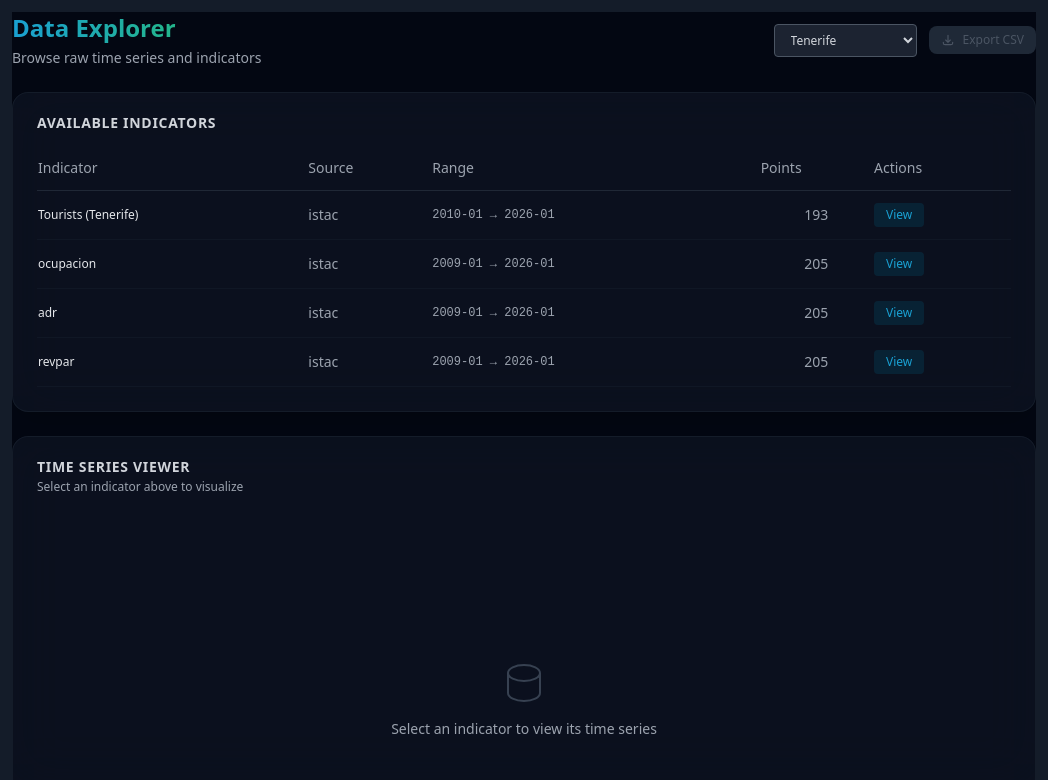
Test: DataExplorerPage › limits selection to 3 indicators
Click the button "View" in the row of "Tourists (Tenerife)": click(899, 215) [874,203,924,227]
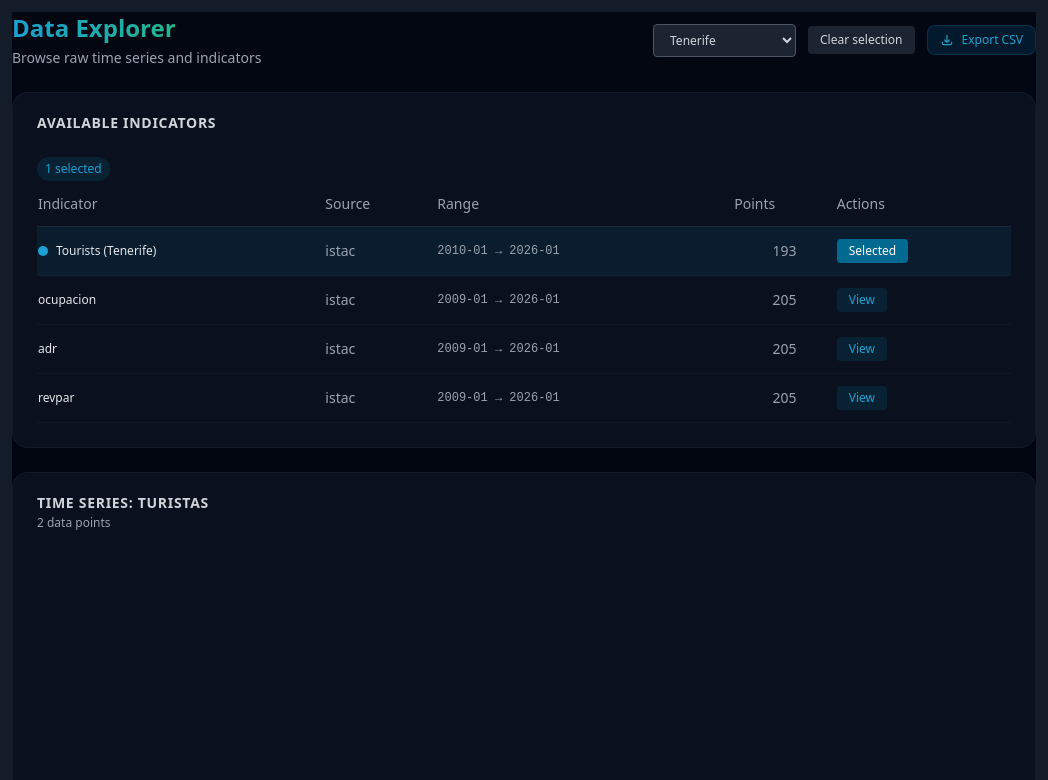
Click the button "View" in the row of "ocupacion": click(862, 300) [837,288,887,312]
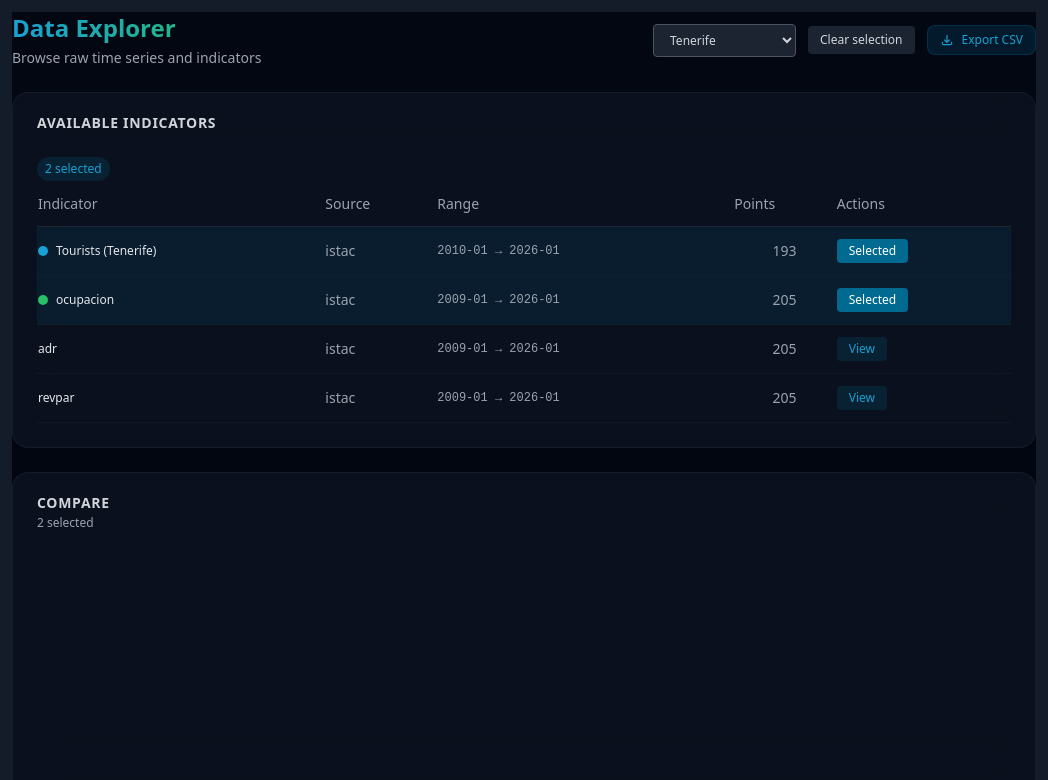
Click the 1st button "View": click(862, 349) [837,337,887,361]
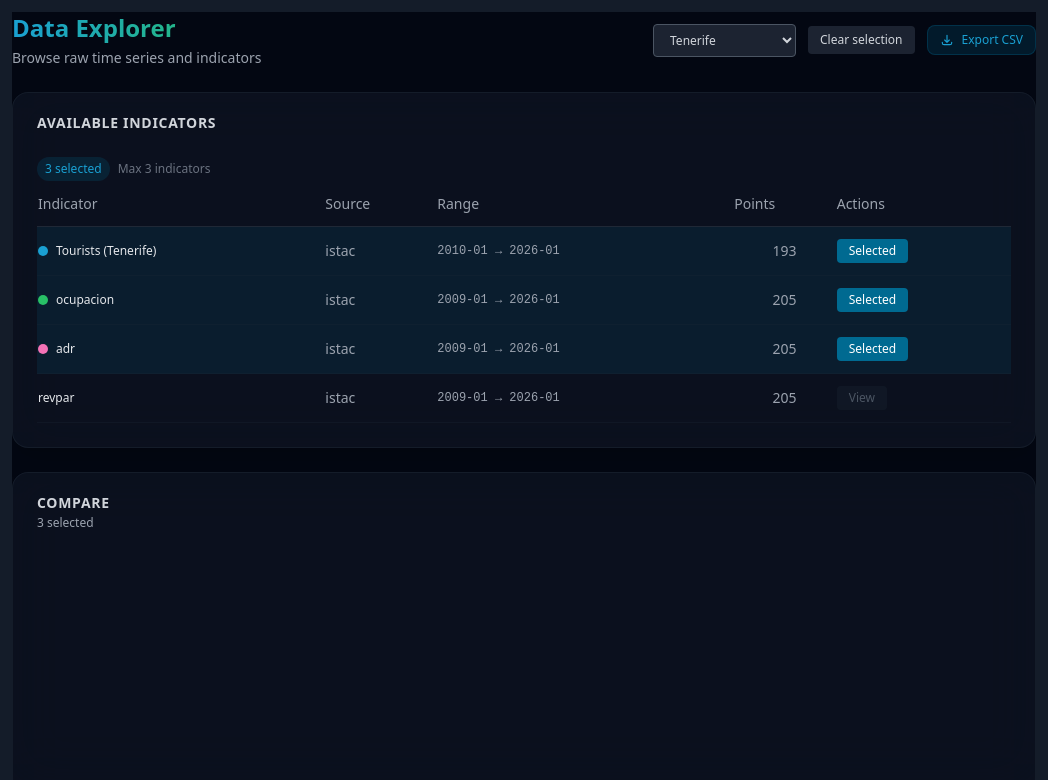
Now the button "View" is disabled, box [837,386,887,410]
